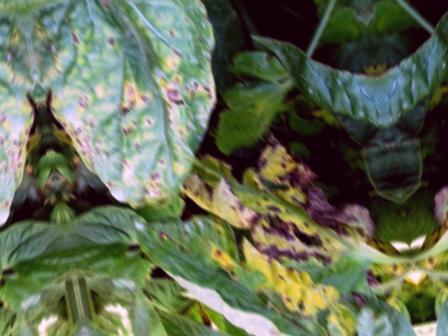Tomato Early blight leaf: (28, 0, 243, 225)
